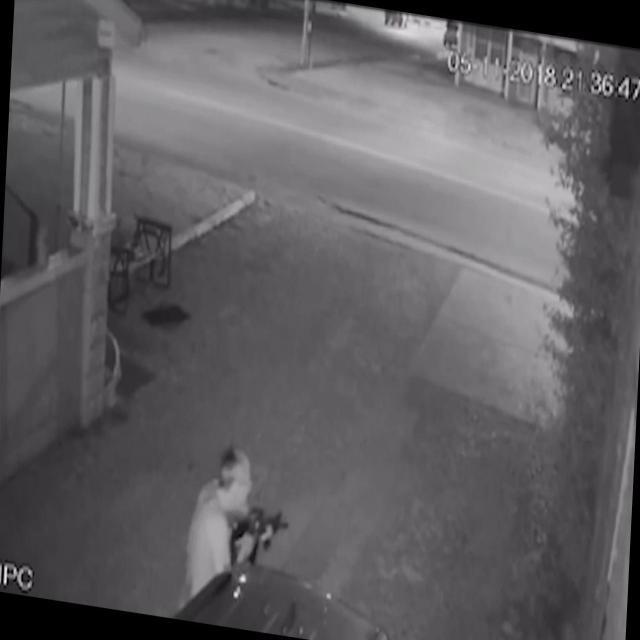pistol: (226, 506, 294, 580)
